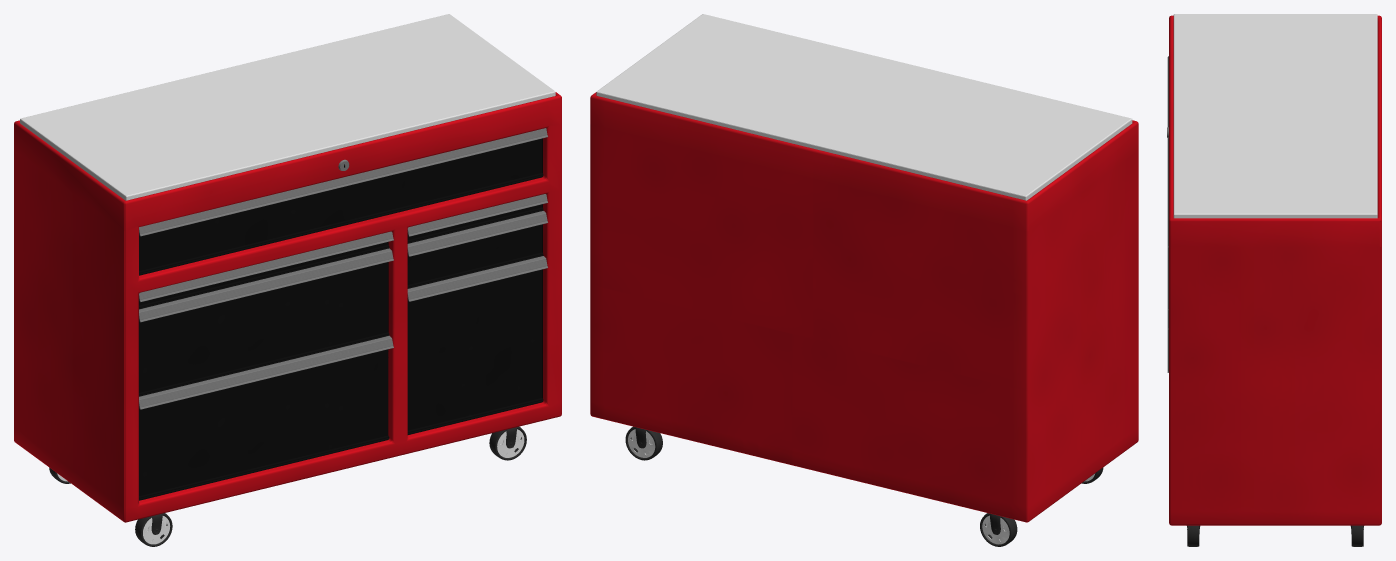
Rendered from connectedObjectBoxModel.fbx.
3 views of the same model, side by side, from view 1: azimuth 30°, elevation 25°; view 2: azimuth 150°, elevation 25°; view 3: azimuth 270°, elevation 25° (orthographic). The views are drawn at different scales.
Parts seen in each view (by area): view 1: base, woodPlank, bottomLeftBottomDrawer, bottomLeftMiddleDrawer, bottomRightBottomDrawer, topDrawer, bottomRightMiddleDrawer, topHandle, bottomLeftMiddleHandle, bottomLeftBottomHandle, bottomLeftTopHandle, bottomRightBottomHandle (+6 smaller); view 2: base, woodPlank, wheellnside, wheel; view 3: base, woodPlank, wheel, topHandle.
Part boxes in pixels (bbox=[...]): base: bbox=[14, 92, 561, 522]; woodPlank: bbox=[20, 14, 555, 200]; bottomLeftBottomDrawer: bbox=[139, 349, 389, 500]; bottomLeftMiddleDrawer: bbox=[139, 262, 389, 396]; bottomRightBottomDrawer: bbox=[407, 269, 543, 434]; topDrawer: bbox=[139, 138, 543, 275]; bottomRightMiddleDrawer: bbox=[407, 224, 543, 288]; topHandle: bbox=[139, 128, 547, 236]; bottomLeftMiddleHandle: bbox=[139, 248, 393, 322]; bottomLeftBottomHandle: bbox=[139, 335, 393, 409]; bottomLeftTopHandle: bbox=[139, 231, 393, 302]; bottomRightBottomHandle: bbox=[407, 256, 547, 301]; base: bbox=[590, 92, 1138, 522]; woodPlank: bbox=[596, 14, 1132, 200]; wheellnside: bbox=[628, 429, 1095, 544]; wheel: bbox=[625, 426, 1103, 546]; base: bbox=[1169, 15, 1381, 525]; woodPlank: bbox=[1173, 14, 1377, 218]; wheel: bbox=[1187, 525, 1363, 546]; topHandle: bbox=[1167, 56, 1168, 247].
Bounding box in the file's own units: 1.05 × 0.8354 × 0.4664.
Materials: 8 (4 with a texture image).
